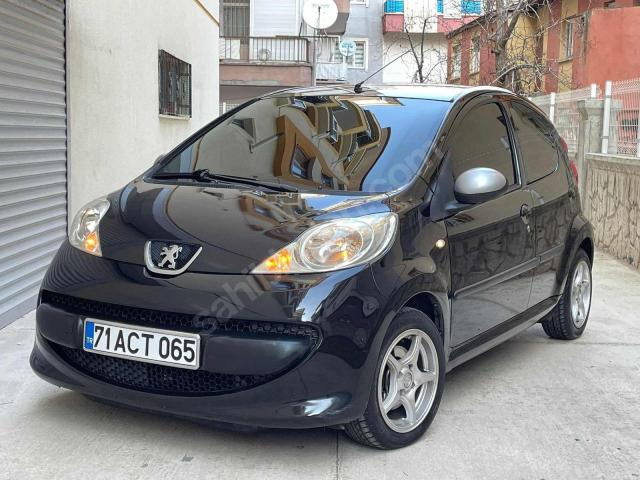plaka: (83, 318, 200, 369)
